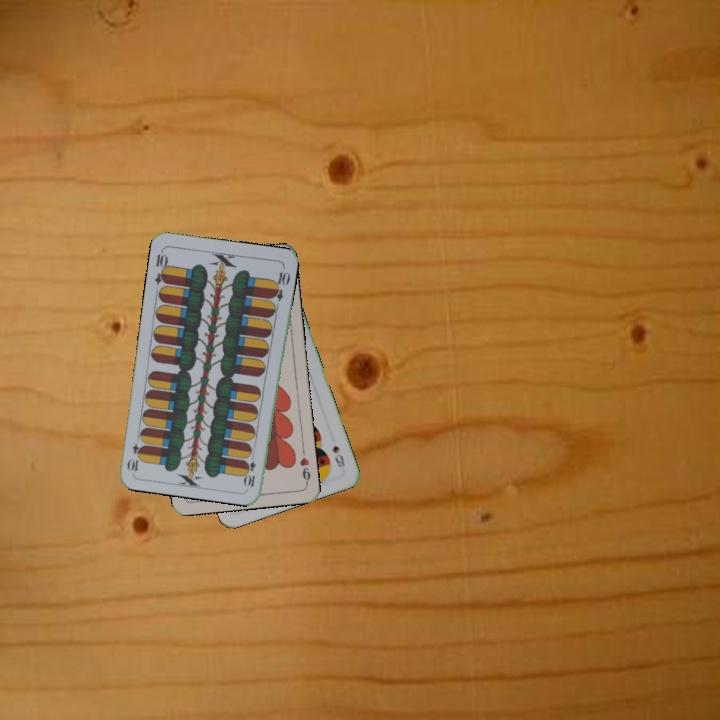E10: (151, 246, 171, 286), (242, 449, 259, 489)
H9: (296, 446, 313, 487)
S8: (328, 441, 348, 473)
